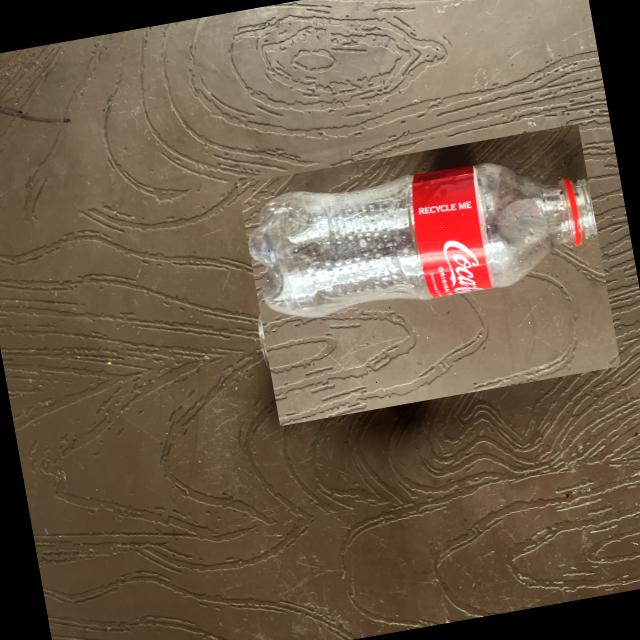REJECT: (237, 123, 620, 424)
